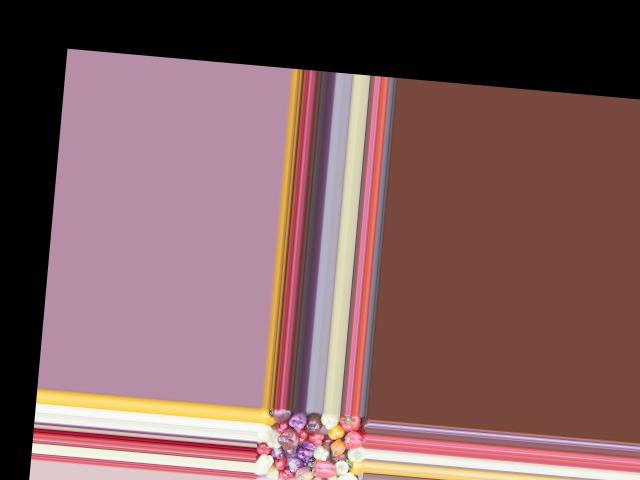bell_pepper: (345, 446, 365, 461)
